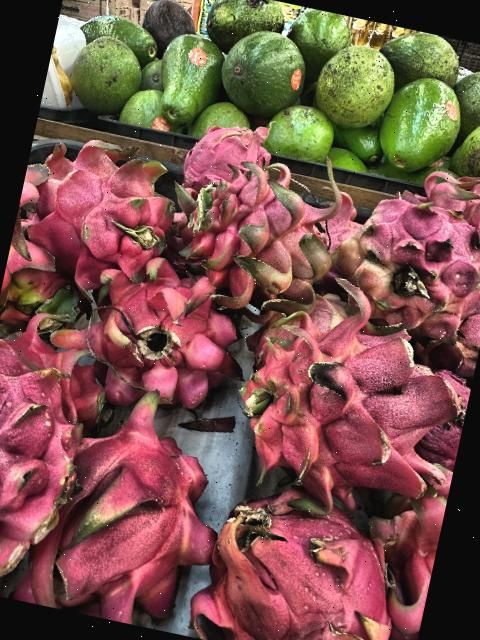buah-naga-belum-matang: (242, 286, 454, 508), (169, 153, 341, 305), (320, 185, 480, 346)
buah-naga-matang: (23, 384, 238, 637), (184, 463, 423, 640), (12, 107, 190, 292), (73, 239, 255, 412), (0, 317, 105, 605), (0, 313, 117, 428), (397, 156, 480, 245)
